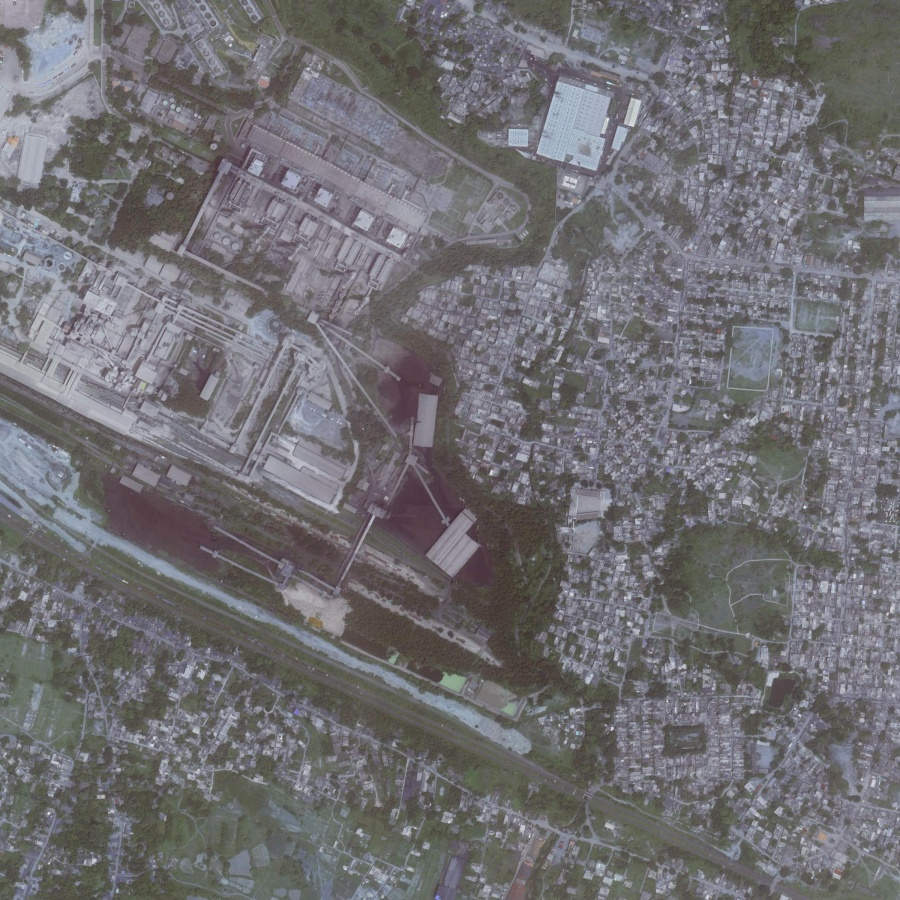PowerPlant: (23, 137, 529, 596)
